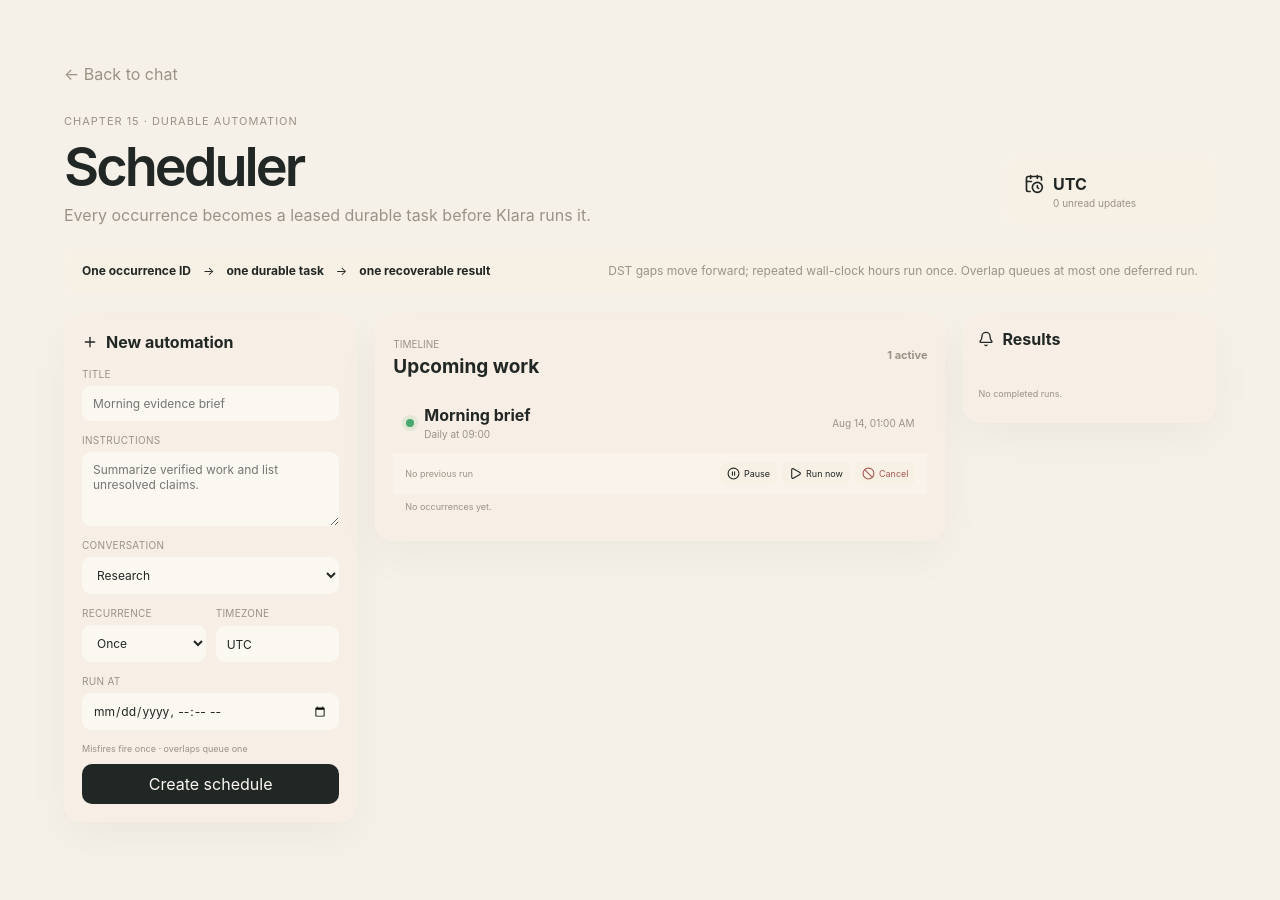
Test case: renders real schedule state and pauses through the API
The width and height of the screenshot is (1280, 900).
Expected: the text "Morning brief" is shown, [424,405,531,425]
Click the button "Pause" at (748, 474), box [720,462,777,485]
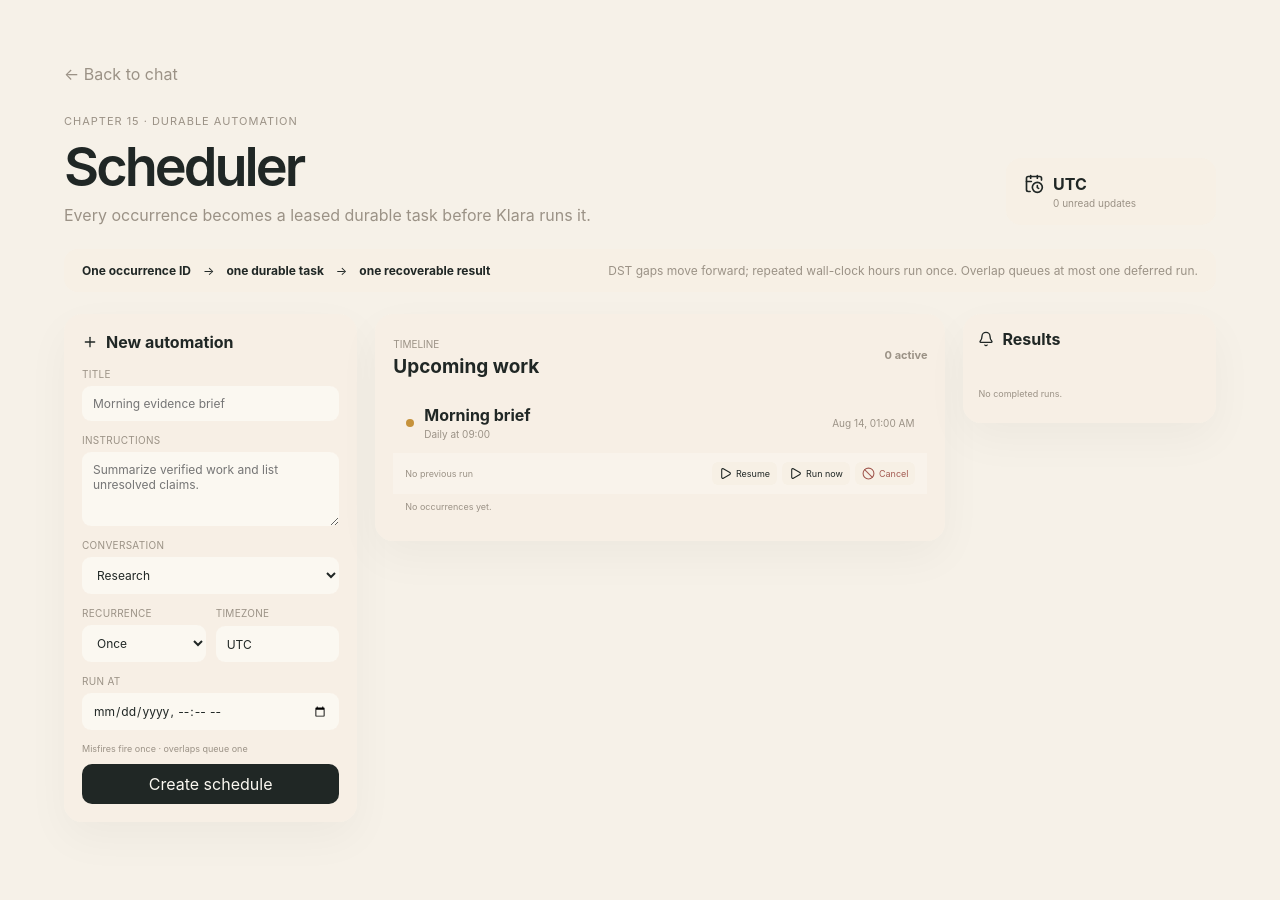
Expected: the button "Resume" is shown, [712,462,777,485]
